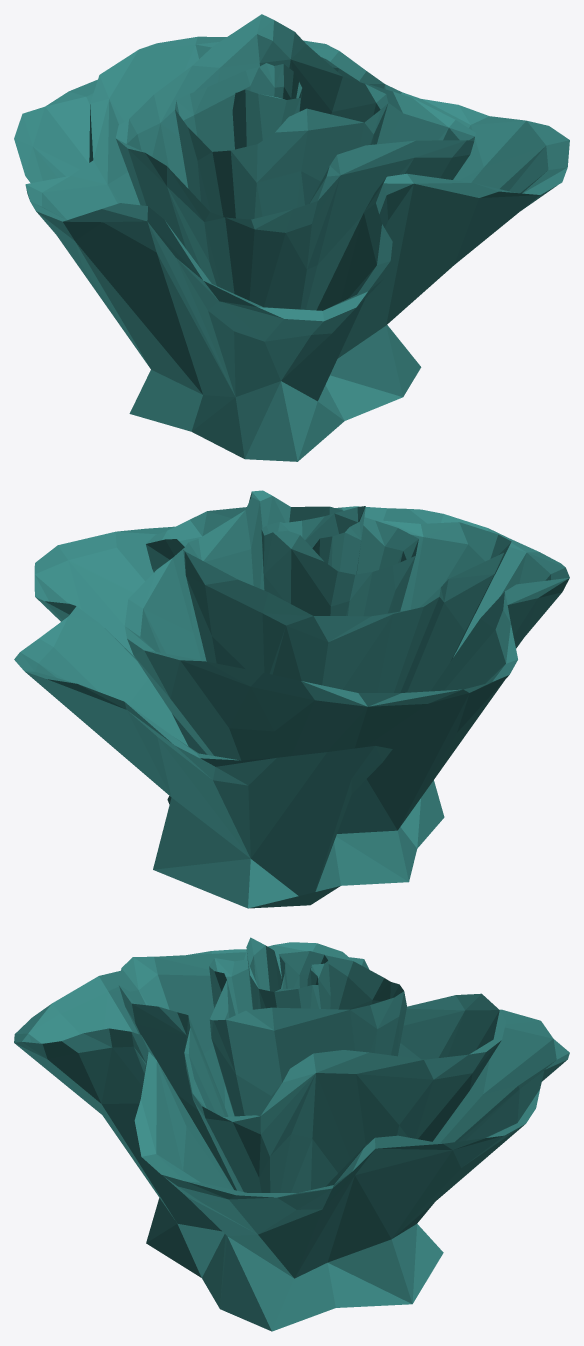
Rendered from SM_Coral_Leaf_Dead_D.fbx.
The picture shows the model from 3 angles, top to bottom: view 1: azimuth 30°, elevation 25°; view 2: azimuth 150°, elevation 25°; view 3: azimuth 270°, elevation 25°; orthographic projection. The views are drawn at different scales.
Visible parts, largest first — view 1: coral-leaf-dead-d; view 2: coral-leaf-dead-d; view 3: coral-leaf-dead-d.
Boxes of the visible parts, left/top/right/bottom form: coral-leaf-dead-d: left=14, top=14, right=569, bottom=461; coral-leaf-dead-d: left=14, top=490, right=569, bottom=908; coral-leaf-dead-d: left=14, top=937, right=569, bottom=1331.
Size of the model in its own units: 1.14 by 0.7648 by 1.19.
